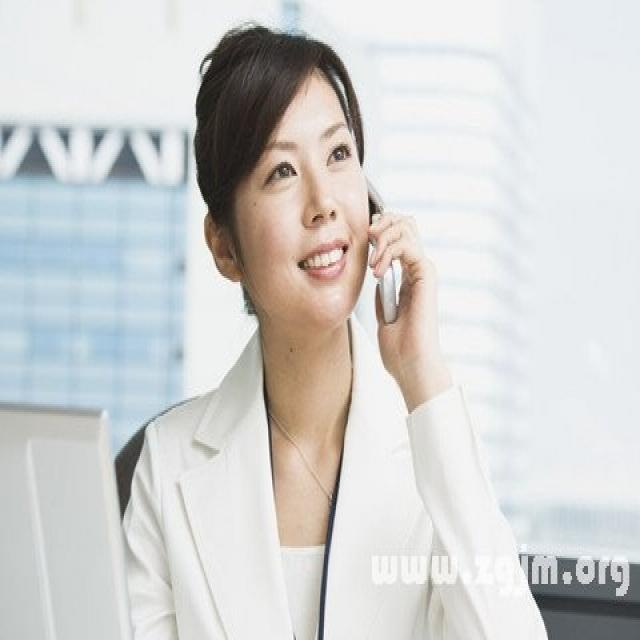phone: (312, 110, 427, 346)
